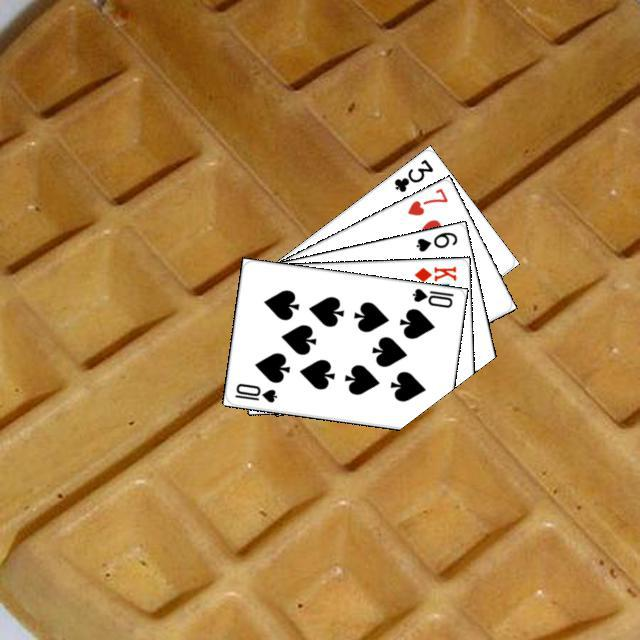10s: (407, 283, 455, 310), (230, 378, 278, 404)
3c: (389, 154, 435, 194)
6s: (411, 227, 459, 253)
7h: (402, 183, 450, 218)
Kd: (409, 261, 458, 283)
